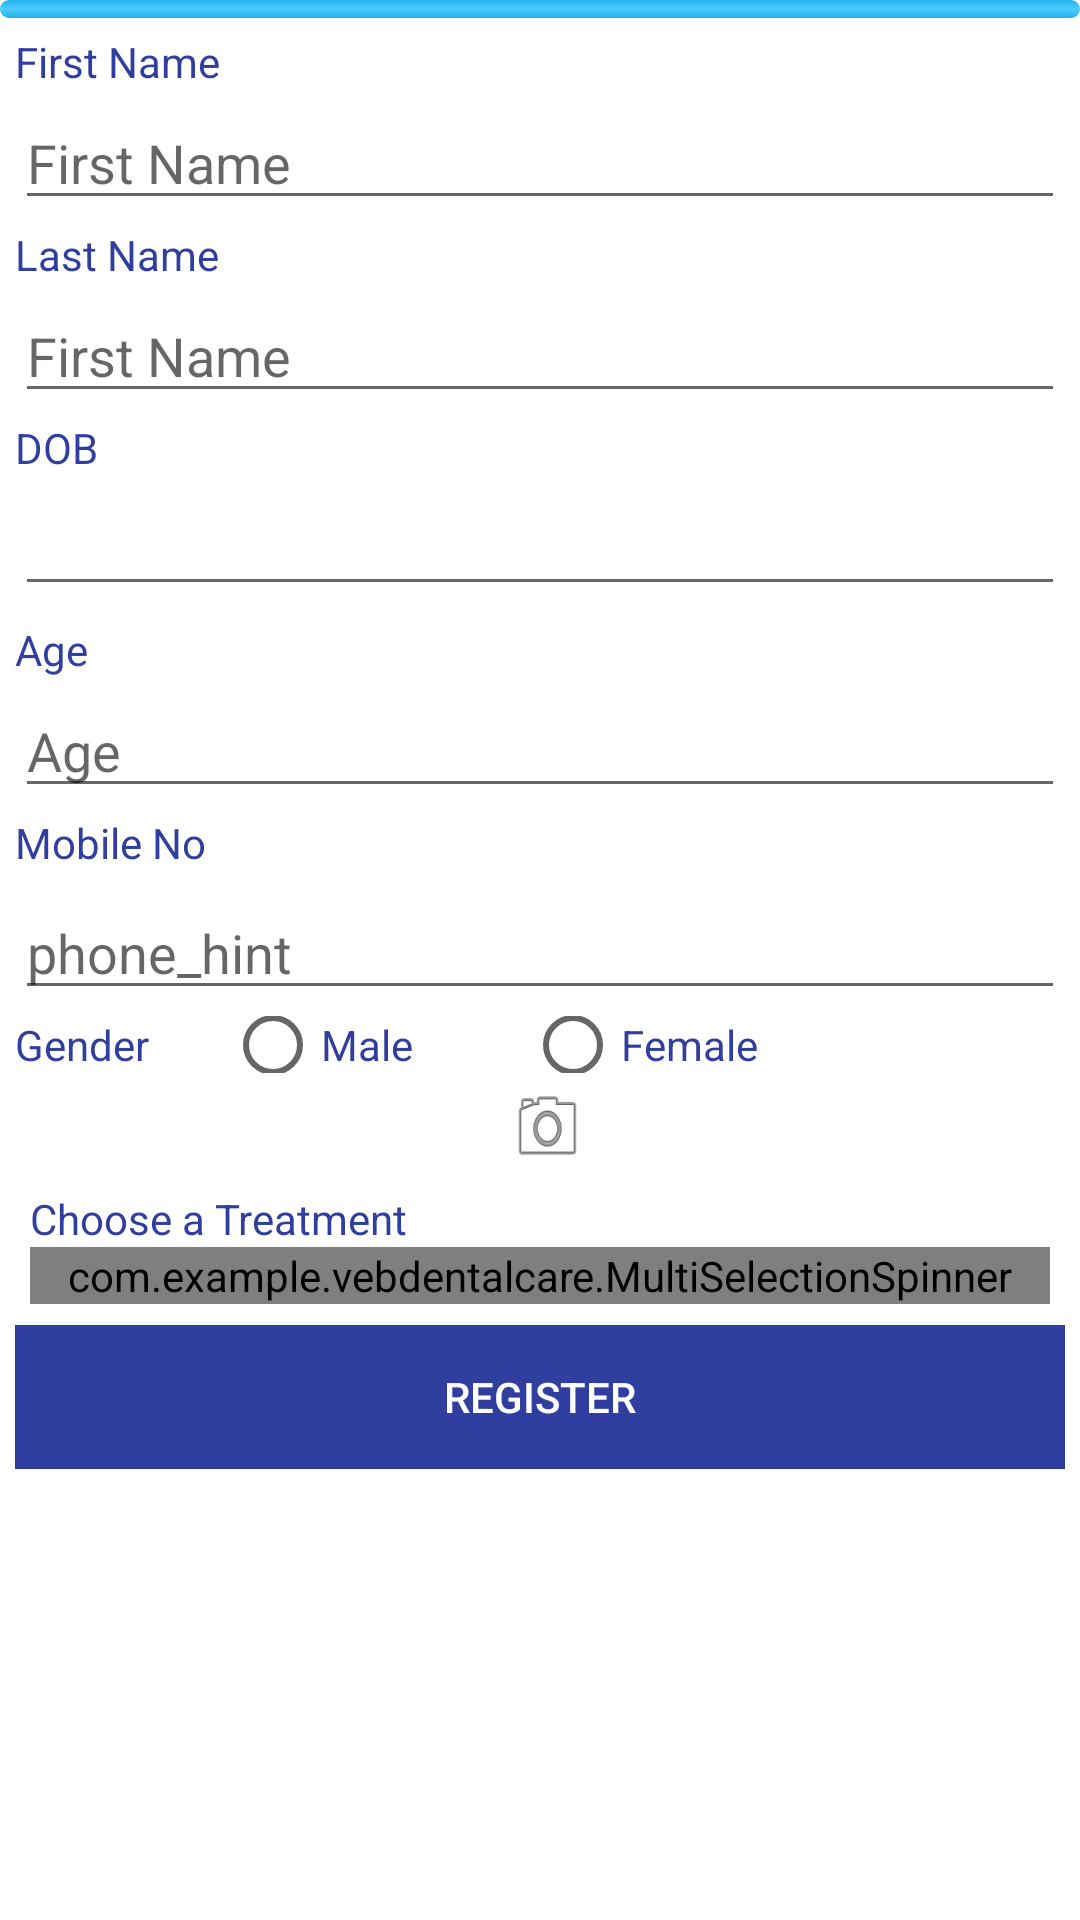

Icon bounding boxes for this 1080px×1920px phone screenshot, format [x1,y1,x2,y2]:
camera: [518,1096,577,1155]
